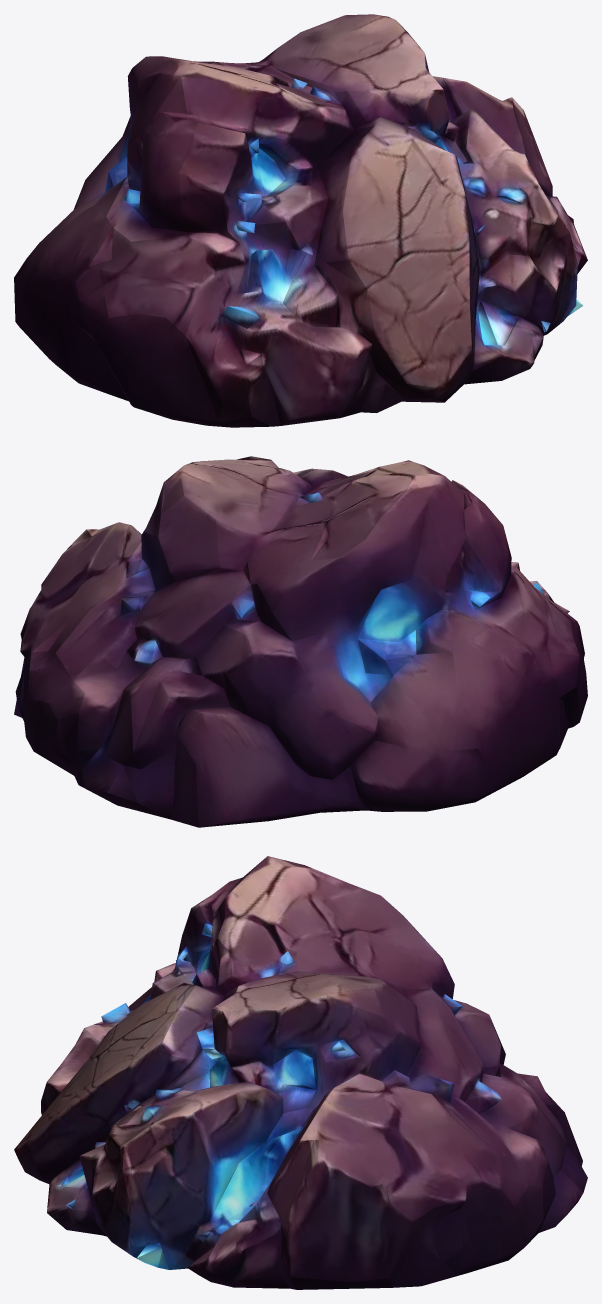
The model's file is m2CaveRock.glb.
3 renders of one model, top to bottom at view 1: azimuth 30°, elevation 25°; view 2: azimuth 150°, elevation 25°; view 3: azimuth 270°, elevation 25°, orthographic. The views are drawn at different scales.
Visible parts, largest first — view 1: model; view 2: model; view 3: model.
Part boxes in pixels (bbox=[...]): model: bbox=[14, 14, 587, 427]; model: bbox=[14, 456, 587, 827]; model: bbox=[14, 856, 587, 1289].
Bounding box in the file's own units: 1.83 × 0.9604 × 1.91.
Materials: 1 (1 with a texture image).
